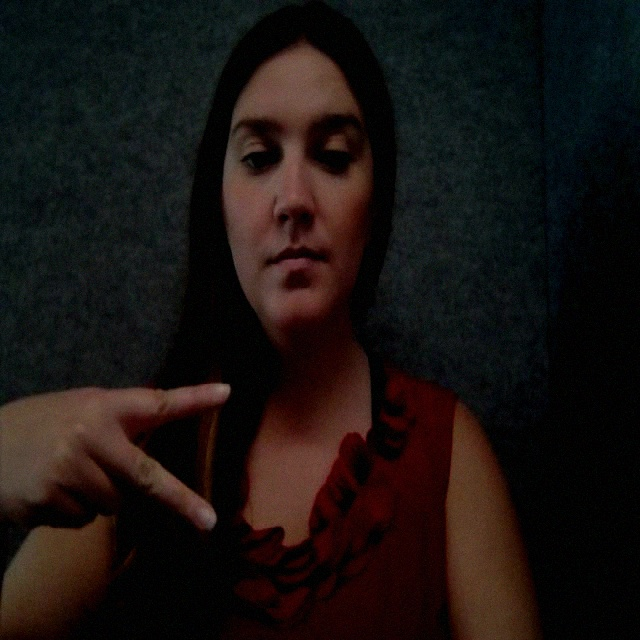Scissors: (0, 344, 254, 608)
